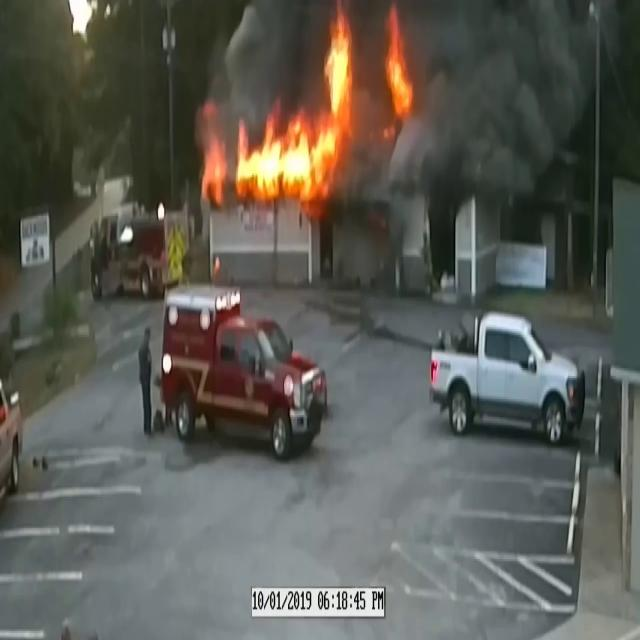Fire: (220, 86, 357, 208), (312, 1, 359, 209), (382, 10, 416, 124)
Smoke: (364, 0, 595, 200)
